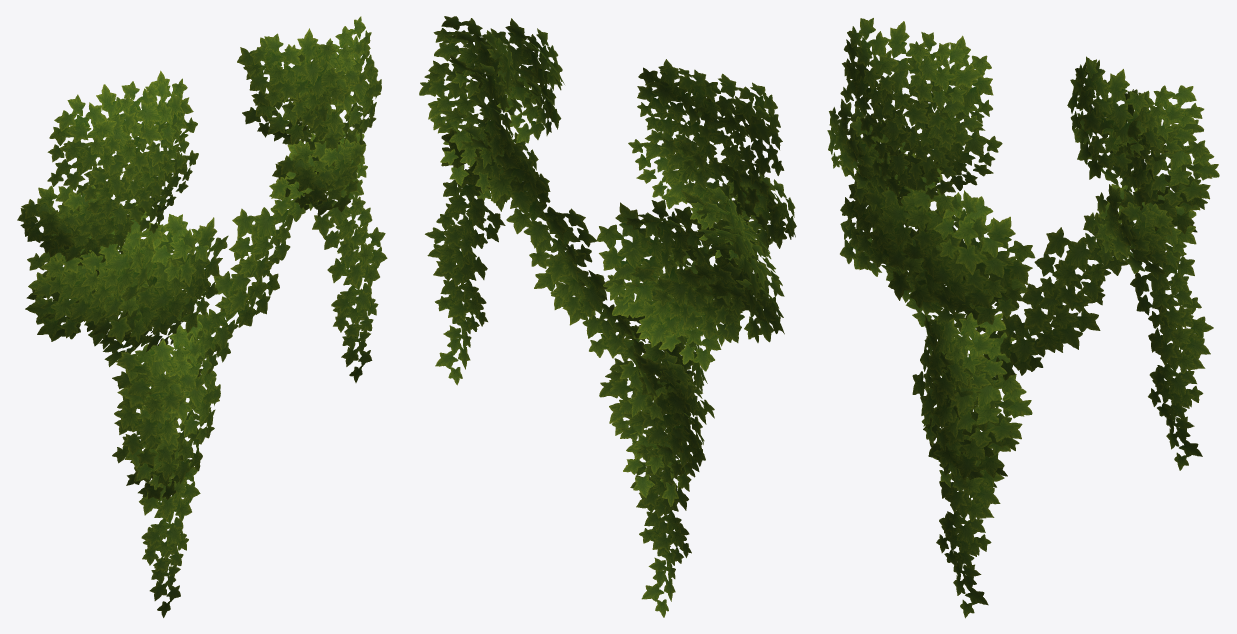
File: SM_fwOF_IvyGroup_02.fbx
3 views of the same model, side by side, from view 1: azimuth 30°, elevation 25°; view 2: azimuth 150°, elevation 25°; view 3: azimuth 330°, elevation 25° (orthographic). The views are drawn at different scales.
Visible parts, largest first — view 1: SM_fwOF_IvyGroup_02_LOD0; view 2: SM_fwOF_IvyGroup_02_LOD0; view 3: SM_fwOF_IvyGroup_02_LOD0.
Boxes of the visible parts, x1=… form: SM_fwOF_IvyGroup_02_LOD0: x1=17, y1=16, x2=387, y2=617; SM_fwOF_IvyGroup_02_LOD0: x1=419, y1=16, x2=796, y2=617; SM_fwOF_IvyGroup_02_LOD0: x1=827, y1=18, x2=1219, y2=618.
Size of what is drawn, in the model's own units: 3.43 by 4.93 by 0.6401.
